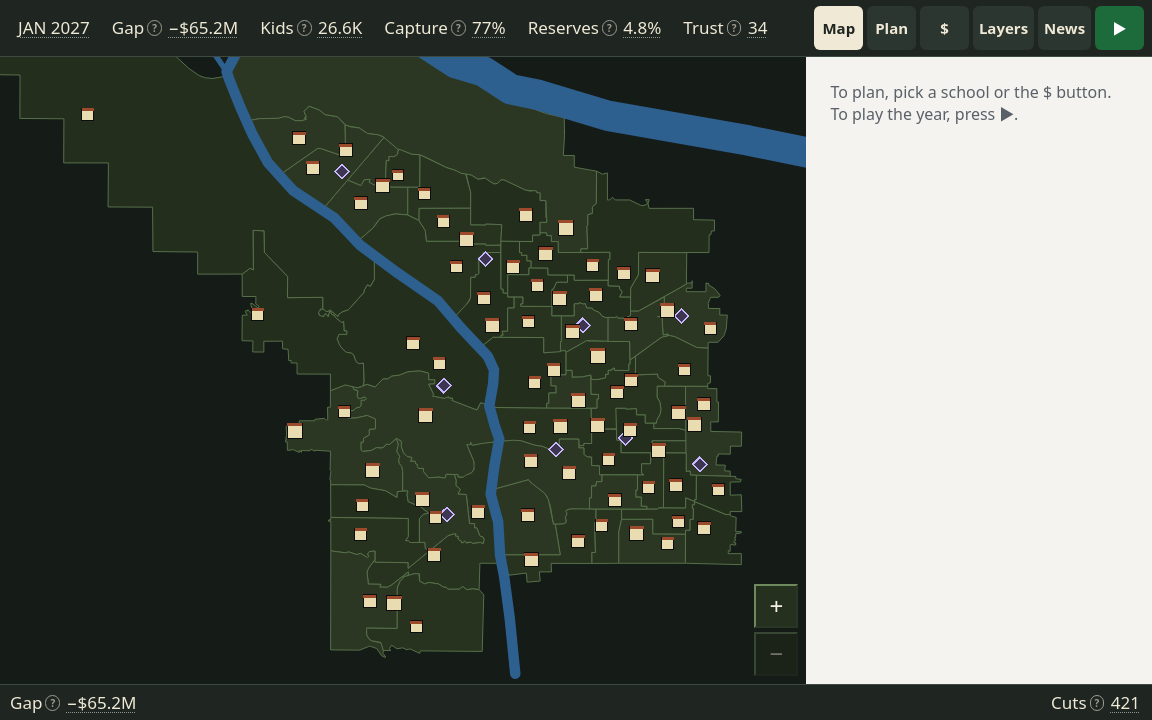
Scenario: App › sources the top bar numbers
What coordinates should you click on to do the following:
click the button "77%"
I would click on:
 (489, 28)
Its box is [470,12,508,44].
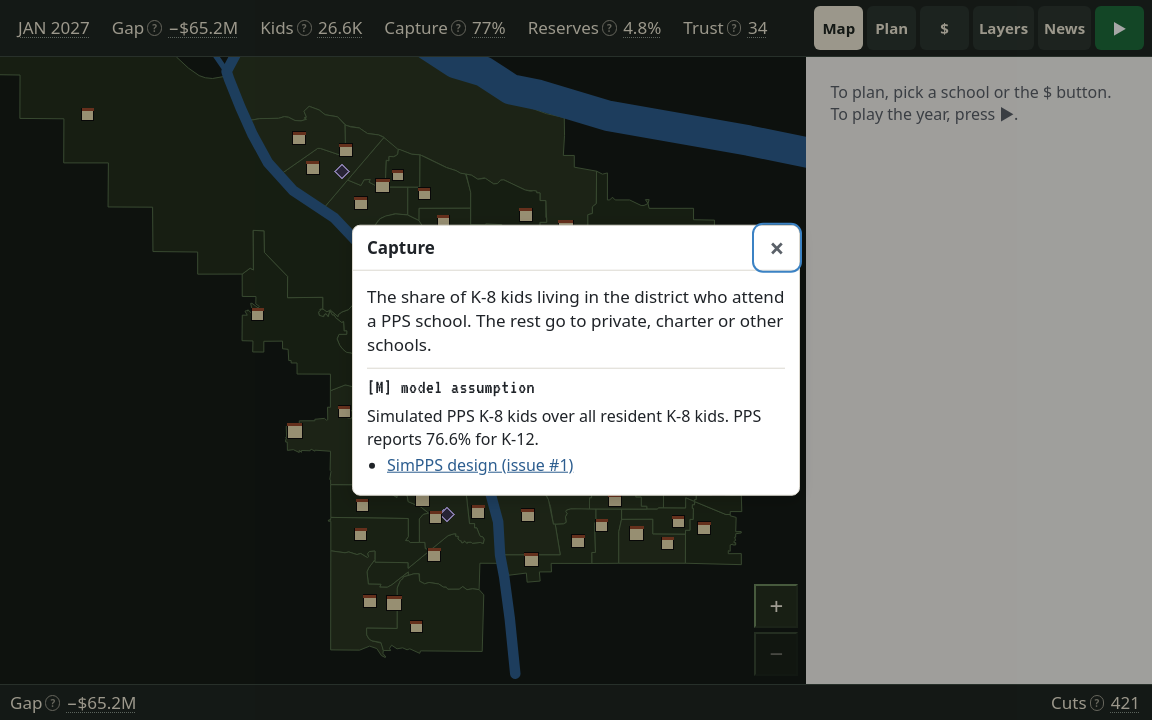
Now the dialog "Capture" is shown, box [352,225,800,495]
